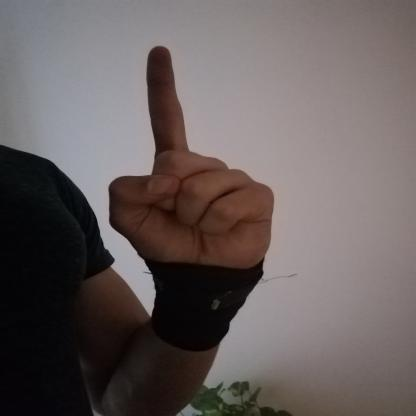BAA: (94, 40, 290, 288)
